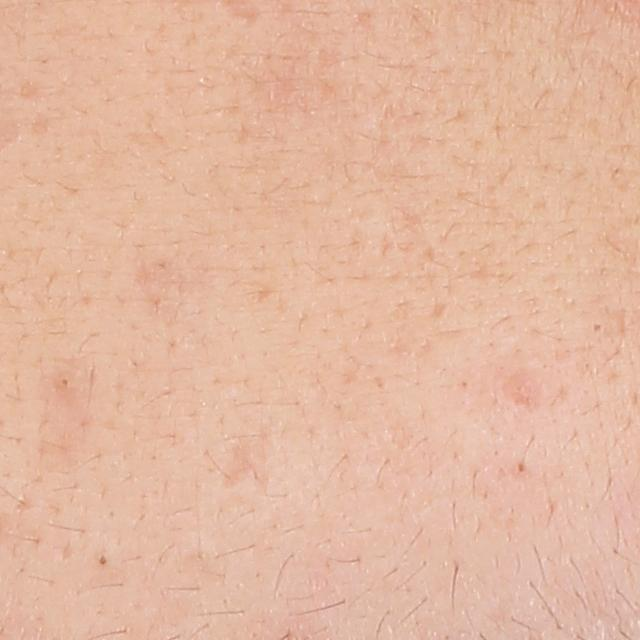atrophic_scar: (219, 440, 274, 490), (502, 365, 546, 415)
comedo: (92, 551, 112, 569), (587, 320, 606, 338), (56, 372, 71, 389), (515, 459, 529, 477)
